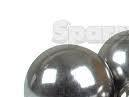ironball: (20, 39, 115, 96), (119, 76, 128, 96)
